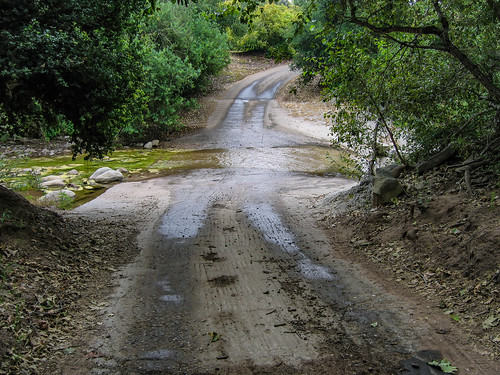road: (99, 66, 424, 375)
vegetation: (1, 1, 224, 136), (322, 1, 500, 156)
